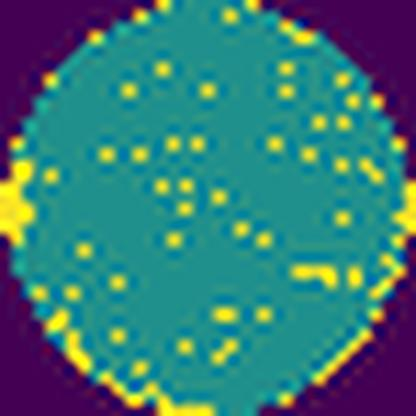Edge-Loc: (0, 151, 43, 252), (391, 179, 416, 238)
